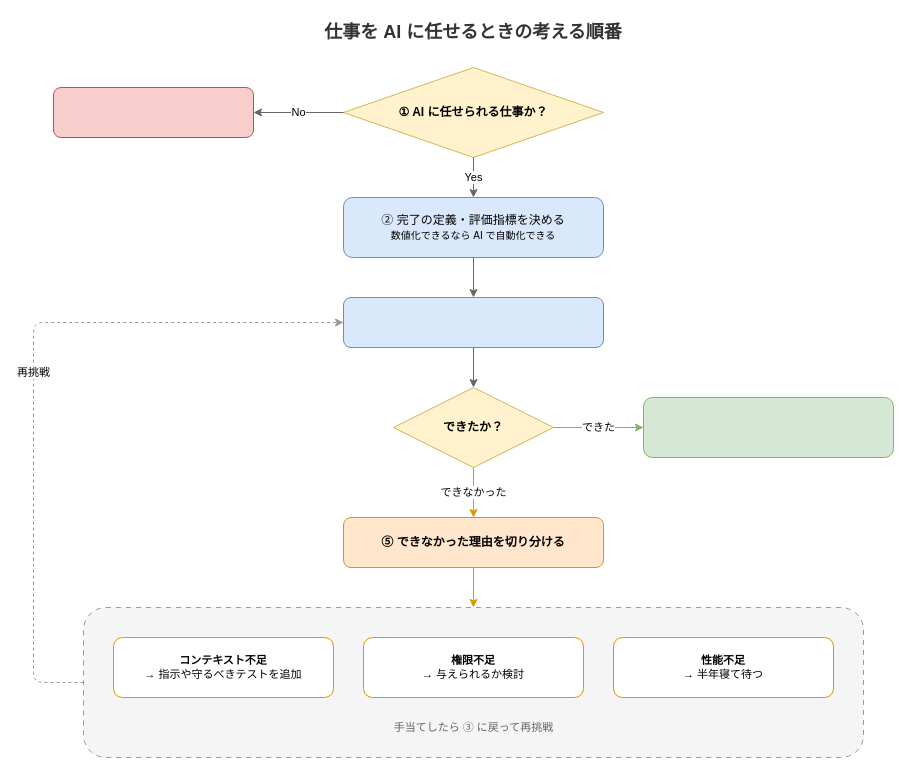
Image size: 911x775. Some labels were removed from this diagram. Each missing label, with the centre of its shape:
"③ 一度やらせて振る舞いを観察する" belongs at (473,322).
"④ ワークフローを自動化できるか つきっきりではなく判断基準を作る" belongs at (768,427).
"ブロッカーは何かを特定する" belongs at (153,112).
